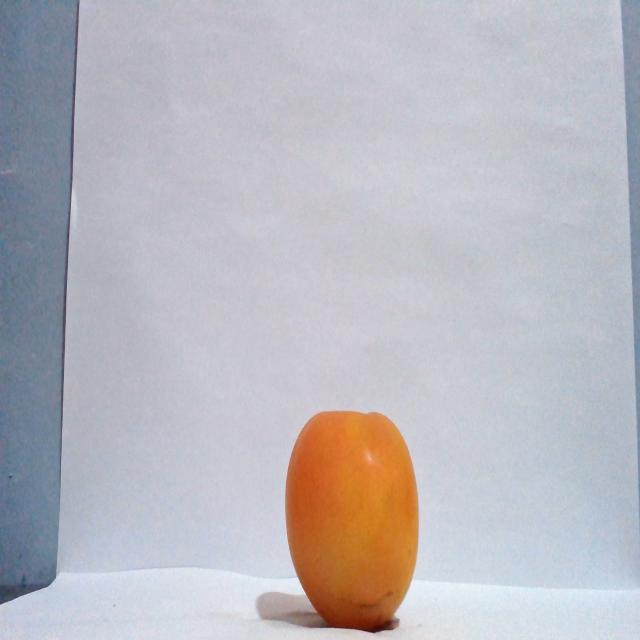Red: (283, 408, 420, 630)
